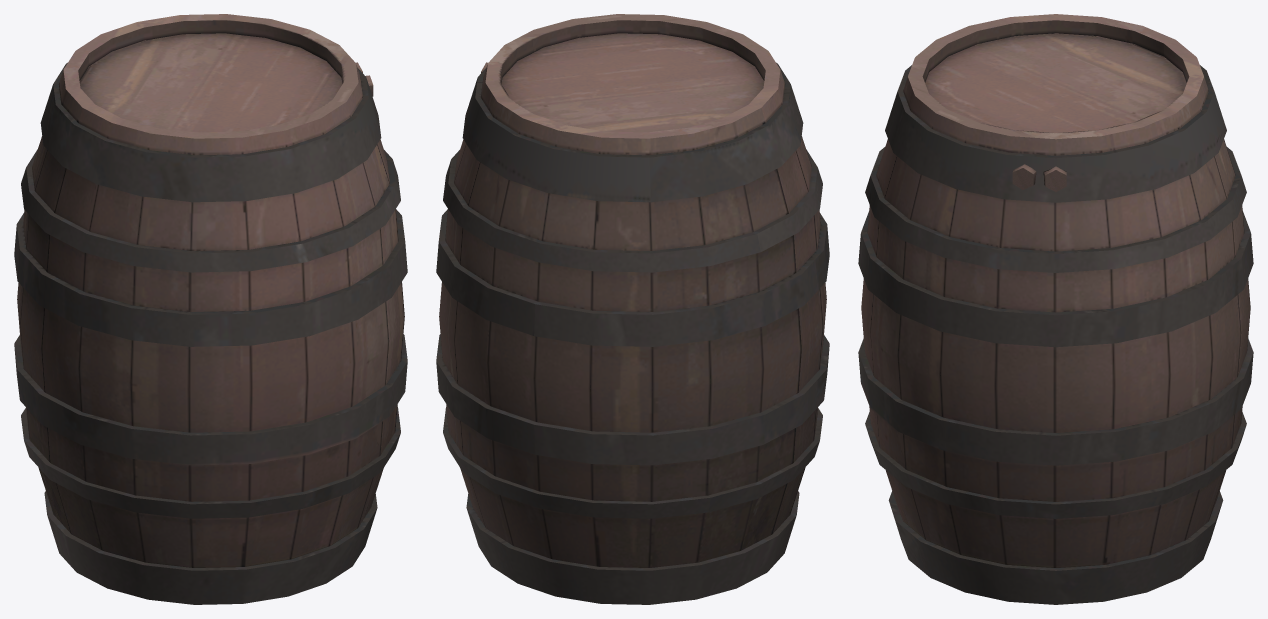
Rendered from wooden_barrel.glb.
3 views of the same model, side by side, from view 1: azimuth 30°, elevation 25°; view 2: azimuth 150°, elevation 25°; view 3: azimuth 270°, elevation 25° (orthographic).
Parts seen in each view (by area): view 1: wooden_barrel; view 2: wooden_barrel; view 3: wooden_barrel.
Part boxes in pixels (x1,y1,x2,y2): wooden_barrel: (14, 14, 407, 604); wooden_barrel: (436, 14, 829, 604); wooden_barrel: (858, 14, 1253, 604).
Bounding box in the file's own units: 0.8845 × 1.14 × 0.8845.
1 material, 1 textured.
